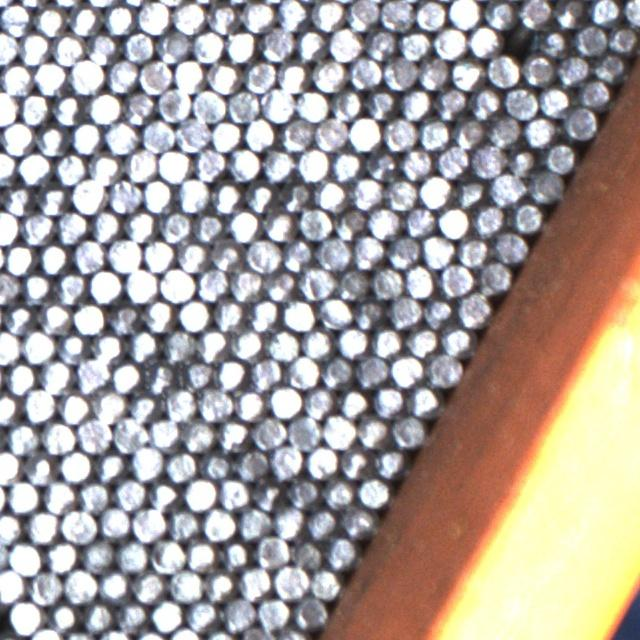tool: (484, 52, 520, 87), (470, 143, 506, 178), (486, 112, 522, 147), (259, 26, 294, 61), (70, 178, 105, 213), (41, 419, 76, 454), (391, 413, 426, 448), (456, 290, 491, 325), (42, 478, 76, 514), (281, 236, 315, 272), (76, 416, 110, 452), (298, 205, 332, 240), (472, 201, 506, 236), (268, 383, 302, 418), (245, 238, 280, 272), (282, 296, 316, 331), (322, 413, 356, 448), (163, 386, 197, 421), (245, 296, 279, 331), (348, 55, 382, 90), (60, 508, 95, 542), (320, 354, 354, 389), (155, 30, 190, 64), (220, 596, 255, 630), (318, 295, 352, 330), (268, 443, 302, 478), (149, 537, 183, 572), (88, 268, 122, 303), (332, 206, 367, 240), (300, 326, 334, 361), (27, 569, 61, 604), (261, 86, 295, 121), (247, 356, 282, 390), (131, 568, 165, 603), (72, 356, 106, 391), (24, 509, 59, 543), (561, 105, 596, 139), (302, 384, 336, 419), (111, 416, 146, 450), (292, 594, 327, 628), (172, 58, 206, 92), (522, 52, 556, 86), (106, 178, 140, 212), (218, 476, 252, 510), (390, 353, 424, 387), (70, 58, 104, 92), (161, 329, 195, 363), (166, 507, 200, 541), (157, 147, 191, 181), (183, 476, 217, 510), (142, 237, 176, 271), (130, 507, 164, 541), (6, 479, 40, 513), (336, 324, 370, 358), (38, 358, 72, 392), (274, 564, 308, 598), (20, 209, 54, 243), (108, 300, 142, 334), (421, 232, 455, 266), (265, 327, 299, 361), (4, 360, 38, 394), (492, 230, 526, 264), (89, 208, 123, 242), (236, 506, 270, 540), (6, 422, 40, 456), (383, 55, 417, 89), (243, 58, 277, 92), (261, 146, 295, 180), (285, 354, 319, 388), (108, 359, 142, 393), (262, 207, 296, 241), (314, 178, 348, 212), (440, 262, 474, 296), (296, 147, 330, 181), (44, 538, 78, 572), (140, 118, 174, 152), (172, 0, 206, 34), (312, 56, 346, 90), (58, 448, 92, 482), (33, 3, 67, 37), (87, 152, 121, 186), (94, 449, 128, 483), (234, 447, 268, 481), (349, 176, 383, 210), (322, 476, 356, 510), (80, 599, 114, 633), (80, 538, 114, 572), (433, 85, 467, 119), (490, 171, 524, 205), (363, 26, 397, 60), (108, 237, 142, 271), (434, 144, 468, 178), (294, 28, 328, 62), (286, 475, 320, 509), (386, 233, 420, 267), (104, 119, 138, 153), (34, 60, 68, 94), (168, 567, 202, 601), (238, 565, 272, 599), (8, 540, 42, 574), (53, 270, 87, 304), (279, 117, 313, 151), (504, 84, 538, 118), (184, 536, 218, 570), (180, 356, 214, 390), (123, 148, 157, 182), (232, 386, 266, 420), (121, 90, 155, 124), (45, 599, 79, 633), (354, 353, 388, 387), (276, 58, 310, 92), (364, 86, 398, 120), (314, 116, 348, 150), (328, 26, 362, 60), (299, 265, 333, 299), (124, 268, 158, 302), (286, 414, 320, 448), (174, 116, 208, 150), (456, 233, 490, 267), (227, 146, 261, 180), (450, 114, 484, 148), (355, 414, 389, 448), (256, 595, 290, 629), (218, 536, 252, 570), (216, 417, 250, 451), (23, 451, 57, 485), (254, 534, 288, 568), (278, 178, 312, 212), (263, 266, 297, 300), (476, 261, 510, 295), (528, 168, 562, 202), (243, 115, 276, 150), (209, 238, 244, 271), (537, 83, 572, 116), (23, 387, 56, 422), (97, 505, 130, 540), (176, 176, 209, 211), (317, 235, 350, 269), (113, 477, 146, 511), (350, 234, 383, 268), (371, 324, 404, 358), (436, 205, 470, 238), (432, 25, 466, 58), (139, 59, 172, 93), (18, 30, 51, 64), (417, 56, 450, 90), (55, 208, 88, 242), (450, 56, 483, 90), (191, 28, 224, 62), (193, 146, 226, 180), (116, 538, 149, 572), (198, 386, 231, 420), (209, 180, 242, 214), (38, 300, 71, 334), (137, 0, 170, 34), (18, 150, 51, 184), (224, 29, 257, 63), (192, 209, 225, 243), (92, 388, 125, 422), (69, 120, 103, 153), (105, 58, 138, 92), (142, 297, 175, 331), (467, 23, 500, 57), (398, 27, 431, 61), (158, 209, 192, 242), (348, 116, 381, 150), (90, 332, 124, 365), (388, 294, 422, 327), (160, 268, 193, 302), (68, 3, 102, 36), (21, 329, 54, 363), (35, 122, 68, 156), (36, 182, 69, 216), (9, 599, 43, 632), (196, 328, 229, 362), (230, 326, 263, 360), (72, 301, 106, 334), (365, 146, 398, 180), (86, 32, 119, 66), (102, 2, 136, 35), (142, 361, 176, 394), (207, 60, 240, 94), (157, 87, 190, 121), (115, 599, 148, 633), (96, 568, 129, 602), (185, 597, 218, 631), (0, 61, 33, 95), (57, 390, 91, 423), (336, 385, 370, 418), (72, 239, 106, 272), (180, 418, 213, 452), (305, 444, 338, 478), (227, 208, 260, 242), (556, 51, 589, 85), (201, 506, 234, 540), (63, 568, 96, 602), (290, 536, 324, 569), (334, 266, 367, 300), (147, 479, 180, 513), (536, 25, 570, 58), (244, 180, 278, 213), (252, 477, 285, 511), (352, 296, 385, 330), (126, 329, 160, 362), (87, 90, 120, 124), (338, 444, 371, 478), (202, 567, 235, 601), (1, 182, 34, 216), (427, 353, 460, 387), (576, 75, 610, 108), (501, 19, 535, 52), (0, 1, 32, 36), (384, 177, 417, 210), (418, 174, 451, 207), (367, 205, 400, 238), (573, 22, 606, 55), (469, 85, 502, 118), (209, 118, 242, 151), (130, 446, 163, 479), (121, 29, 154, 62), (53, 151, 86, 184), (56, 331, 89, 364), (19, 271, 52, 304), (400, 146, 433, 179), (382, 117, 415, 150), (399, 86, 432, 119), (296, 88, 329, 121), (405, 324, 438, 357), (192, 89, 225, 122), (1, 121, 34, 154), (195, 267, 228, 300), (150, 598, 183, 631), (146, 416, 179, 449), (440, 324, 473, 357), (177, 298, 210, 331), (251, 415, 284, 448), (305, 506, 338, 539), (330, 147, 363, 180), (357, 475, 390, 508), (417, 116, 450, 149), (226, 88, 259, 121), (309, 566, 342, 599), (506, 143, 539, 176), (453, 174, 486, 207), (371, 445, 404, 478), (142, 178, 174, 212), (509, 200, 543, 232), (18, 91, 50, 125), (272, 505, 304, 539), (212, 297, 244, 331), (372, 383, 404, 417), (422, 295, 454, 329), (165, 448, 197, 482), (402, 204, 434, 238), (4, 241, 36, 275), (330, 86, 362, 120), (229, 267, 261, 301), (198, 448, 232, 480), (52, 92, 84, 126), (127, 391, 161, 423), (406, 383, 438, 417), (207, 2, 240, 34), (241, 0, 274, 32), (214, 357, 246, 390), (340, 504, 372, 537), (124, 208, 156, 241), (523, 114, 556, 146), (370, 266, 403, 298), (78, 480, 111, 512), (38, 241, 70, 274), (176, 240, 209, 272), (324, 536, 357, 568), (544, 140, 576, 173), (379, 0, 413, 31), (404, 264, 436, 296), (594, 50, 626, 82), (3, 302, 35, 334), (52, 32, 84, 64), (608, 22, 640, 54), (414, 0, 448, 30), (345, 0, 379, 30), (311, 0, 344, 30), (447, 0, 481, 29), (483, 0, 517, 29), (552, 0, 586, 29), (276, 0, 308, 30), (519, 0, 552, 28), (588, 0, 622, 27), (0, 569, 26, 603), (0, 510, 24, 544), (0, 449, 21, 484), (0, 392, 22, 424), (0, 329, 20, 364), (0, 210, 20, 244), (0, 270, 19, 302), (0, 151, 17, 185), (0, 30, 17, 64), (241, 624, 276, 640), (0, 90, 16, 124), (276, 624, 310, 640)
